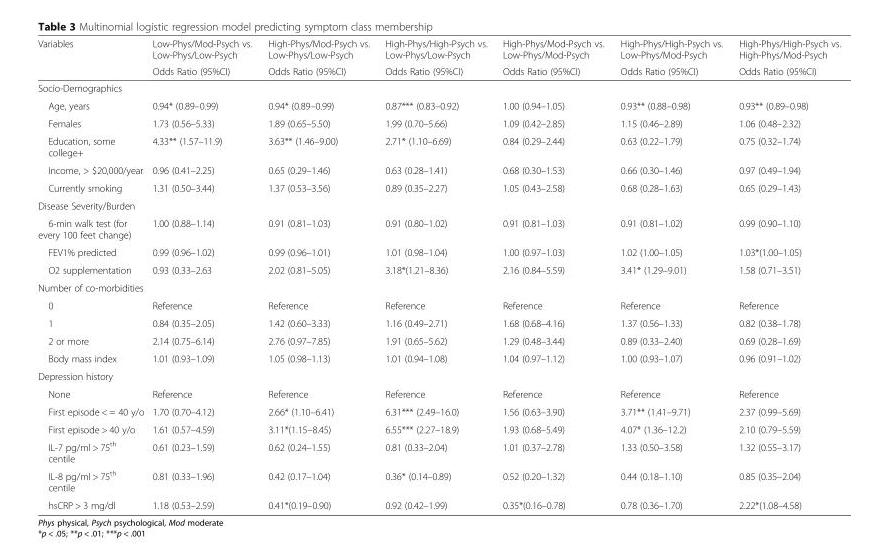table: (37, 37, 840, 510)
table column: (611, 37, 730, 510), (376, 37, 494, 510), (259, 37, 376, 510), (494, 37, 611, 510), (147, 37, 259, 510), (37, 37, 147, 510), (730, 37, 840, 510)
table column header: (37, 37, 840, 79)
table projected row header: (37, 196, 840, 214), (37, 278, 840, 296), (37, 79, 840, 96), (37, 367, 840, 384)
table row: (37, 131, 840, 161), (37, 466, 840, 496), (37, 214, 840, 243), (37, 437, 840, 466), (37, 37, 840, 62), (37, 96, 840, 114), (37, 178, 840, 196), (37, 196, 840, 214), (37, 260, 840, 278), (37, 278, 840, 296), (37, 313, 840, 331), (37, 331, 840, 349), (37, 349, 840, 367), (37, 384, 840, 402), (37, 402, 840, 420), (37, 62, 840, 79), (37, 79, 840, 96), (37, 114, 840, 131), (37, 161, 840, 178), (37, 243, 840, 260), (37, 296, 840, 313), (37, 367, 840, 384), (37, 420, 840, 437), (37, 496, 840, 510)
table spanning cell: (611, 37, 730, 79), (376, 37, 494, 79), (259, 37, 376, 79), (494, 37, 611, 79), (147, 37, 259, 79), (37, 37, 147, 79), (730, 37, 840, 79)
